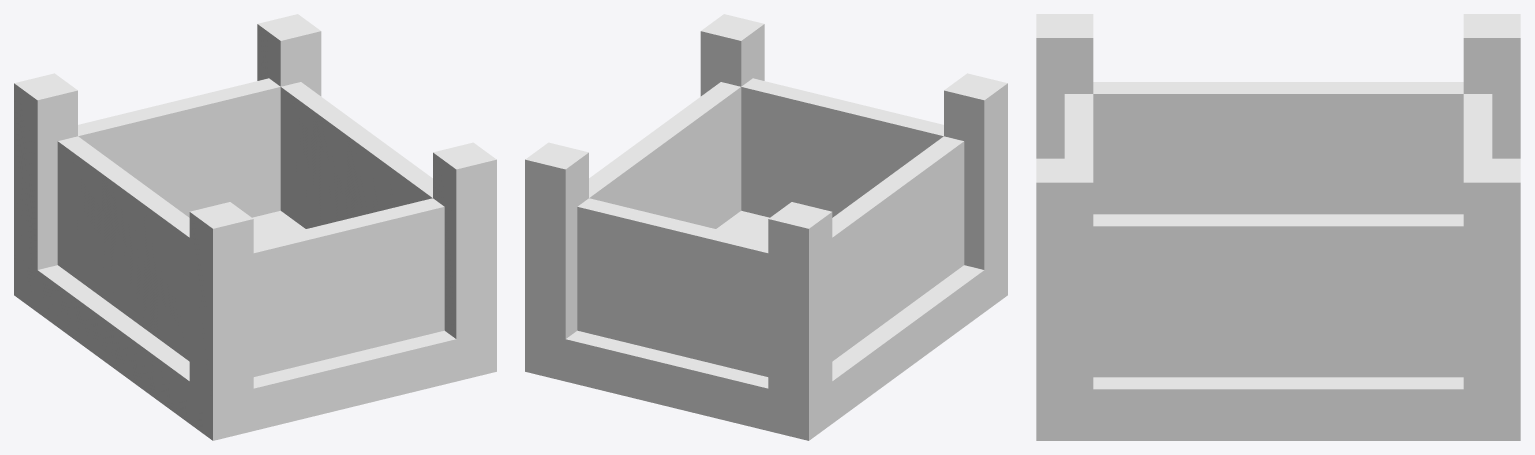
The model's file is crate.glb.
3 views of the same model, side by side, from view 1: azimuth 30°, elevation 25°; view 2: azimuth 150°, elevation 25°; view 3: azimuth 270°, elevation 25° (orthographic). The views are drawn at different scales.
Visible parts, largest first — view 1: crate; view 2: crate; view 3: crate.
Boxes of the visible parts, x1,y1,x2,y2 form: crate: [14, 14, 496, 440]; crate: [525, 14, 1007, 440]; crate: [1036, 14, 1520, 440].
Bounding box in the file's own units: 1.08 × 0.77 × 1.31.
1 material, 1 textured.
